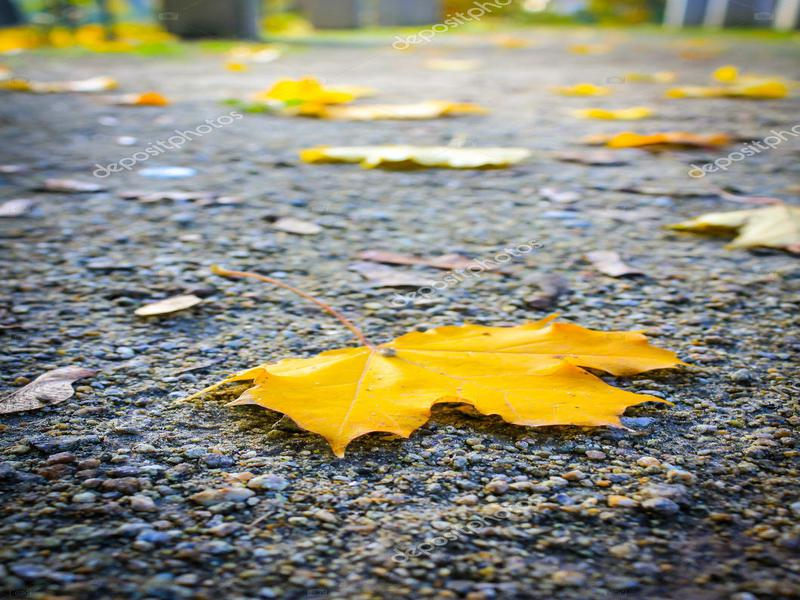leaf: (176, 258, 693, 462), (659, 192, 800, 258), (1, 346, 102, 426)
